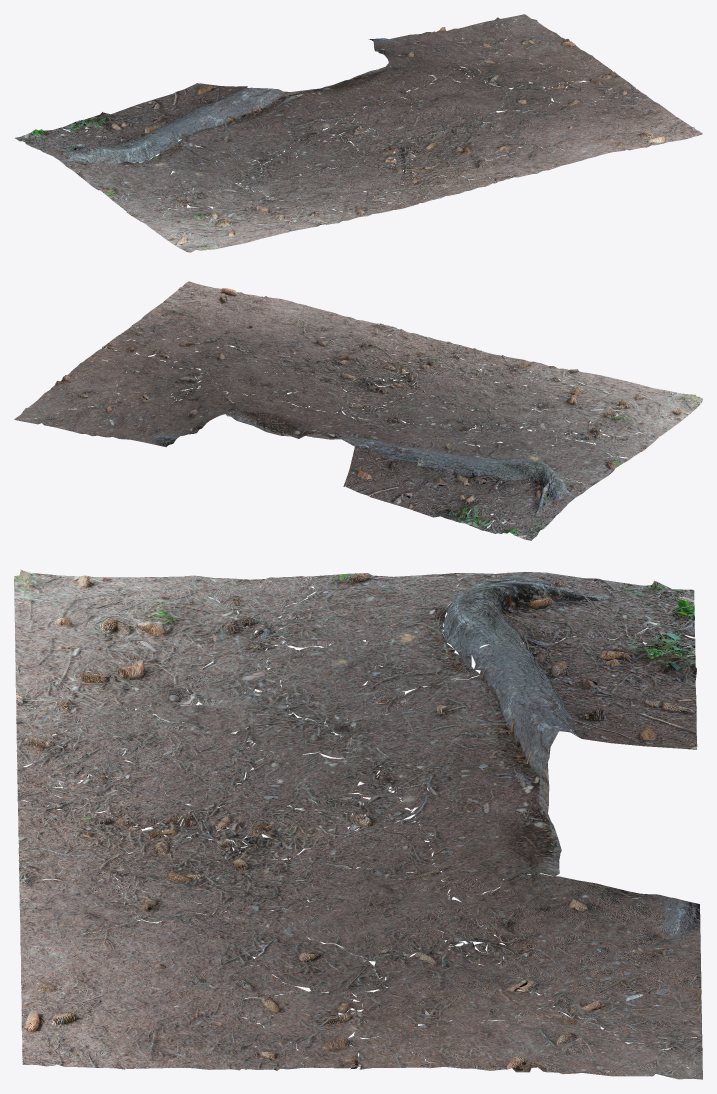
3 renders of one model, top to bottom at view 1: azimuth 30°, elevation 25°; view 2: azimuth 150°, elevation 25°; view 3: azimuth 270°, elevation 25°, orthographic. The views are drawn at different scales.
Visible parts, largest first — view 1: Model; view 2: Model; view 3: Model.
Part boxes in pixels (box(x1,y1,x2,y2)): Model: box(15, 14, 702, 252); Model: box(14, 281, 702, 540); Model: box(14, 569, 702, 1079).
Size of the model in its own units: 2.64 by 0.144 by 1.58.
3 materials, 3 textured.
